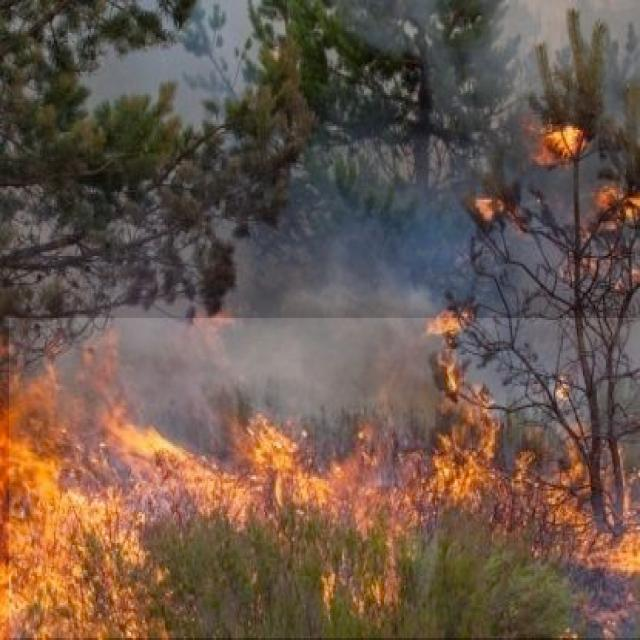Fire: (9, 318, 640, 638)
